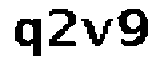2: (46, 7, 79, 52)
9: (116, 6, 151, 51)
q: (12, 16, 44, 60)
v: (80, 16, 114, 50)
